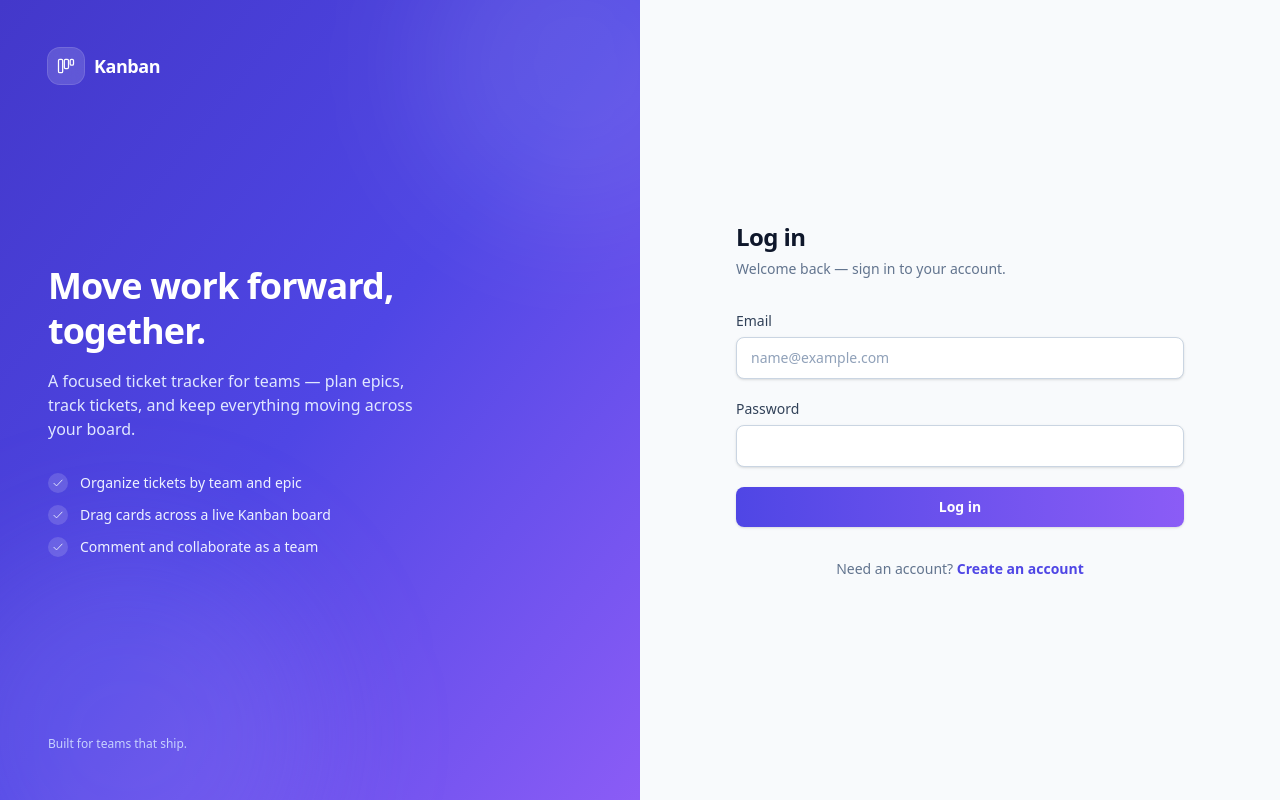
client validation blocks submit when fields are empty
The image size is (1280, 800).
Click the button "Log in": coordinates (960, 507) [736,487,1184,527]
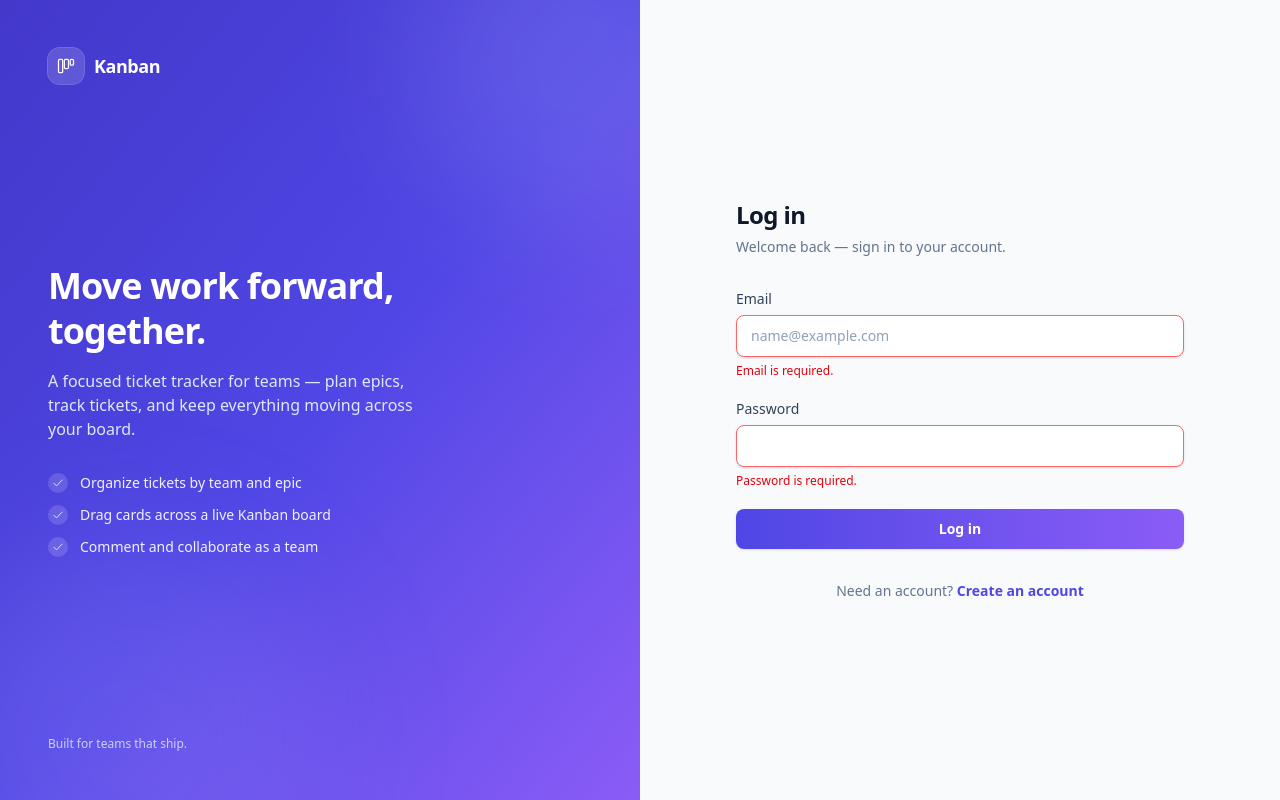
Now the text "Email is required." is shown, box [736,362,833,379]
Now the text "Password is required." is shown, box [736,472,857,489]
